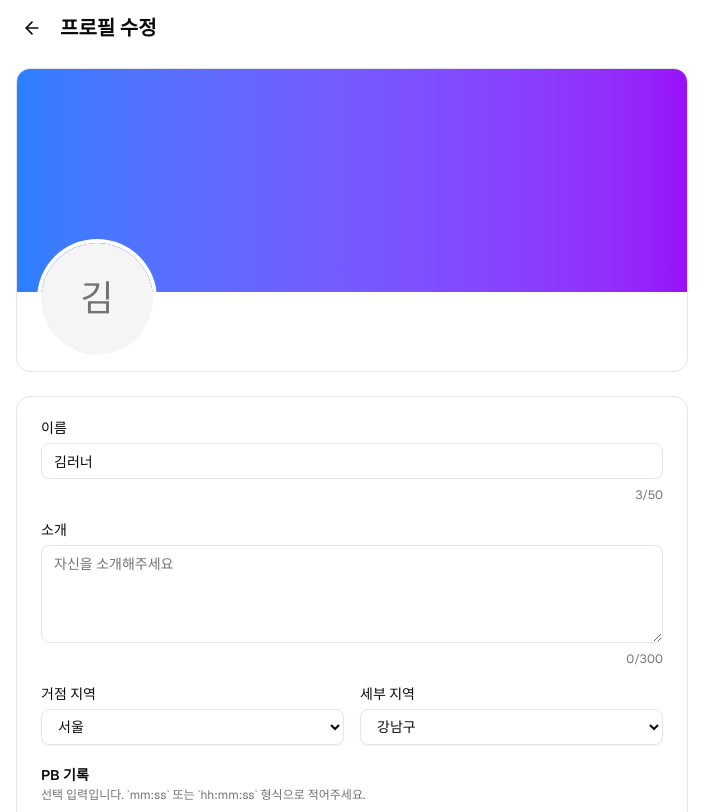
Test: EditProfilePage region selects › renders region fields as selects and clears sub-region when the region changes
The width and height of the screenshot is (705, 812).
Expected: the dropdown labelled "세부 지역" shows "강남구", 360,709 -> 663,745
Select "부산" in the dropdown labelled "거점 지역" at (192, 727), box 41,709 -> 344,745
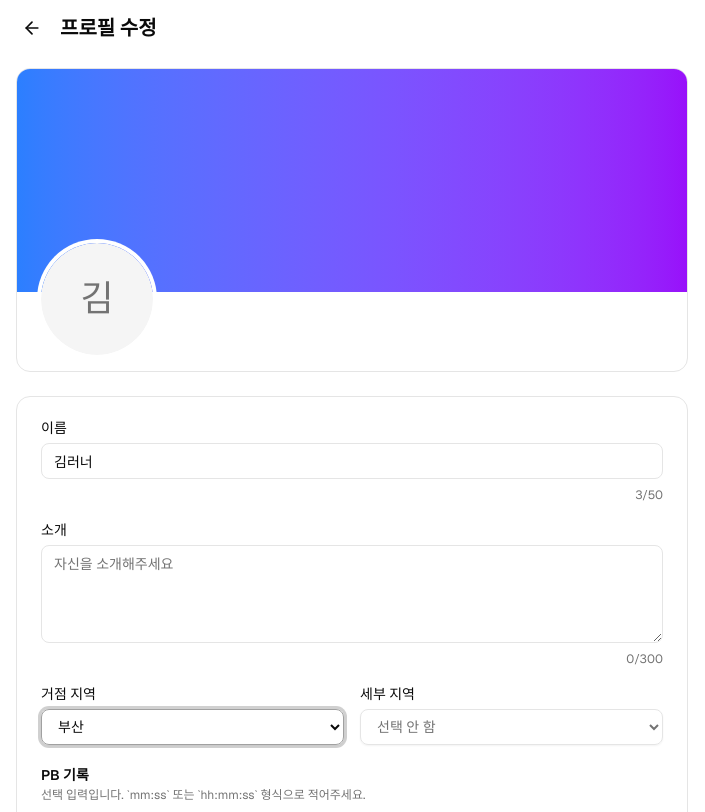
Expected: the dropdown labelled "세부 지역" shows "선택 안 함", 360,709 -> 663,745
